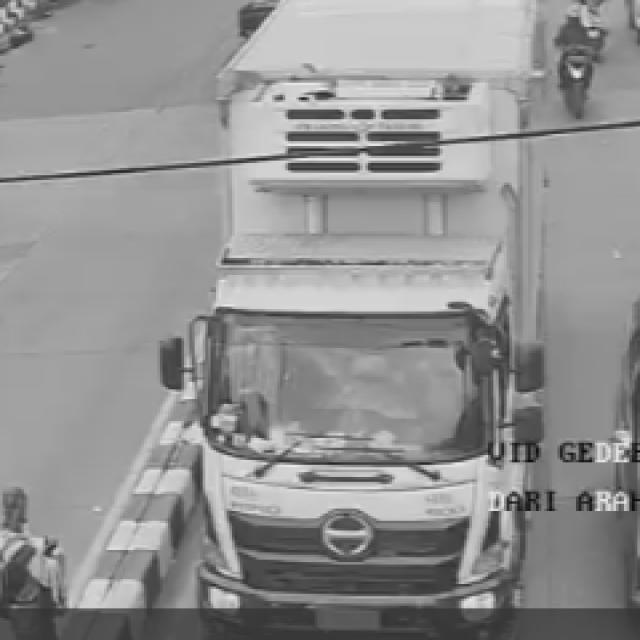Truck: (168, 0, 563, 638)
